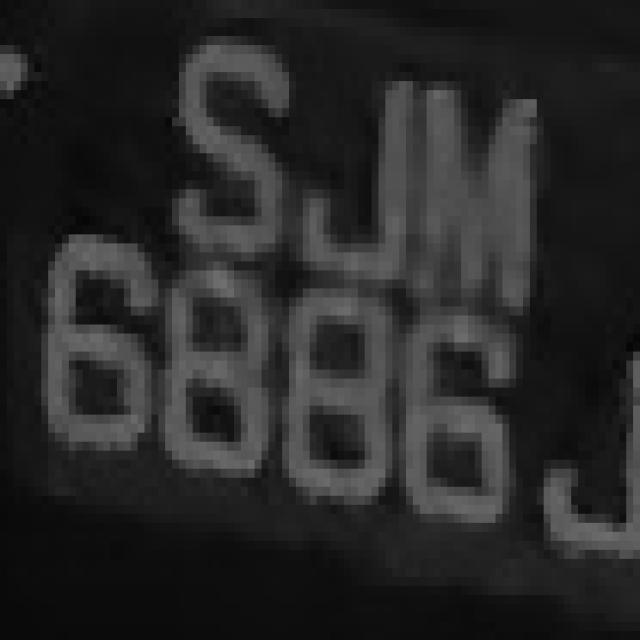6: (392, 261, 530, 550), (21, 198, 165, 469)
8: (282, 252, 413, 523), (152, 234, 282, 496)
J: (532, 329, 640, 588), (303, 36, 413, 279), (6, 5, 7, 8)
M: (406, 27, 551, 316)
S: (144, 0, 295, 261)
